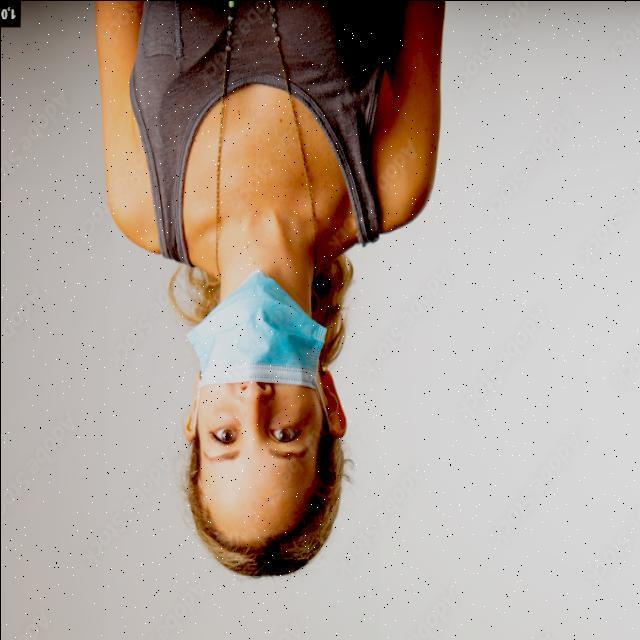face_half_mask: (185, 306, 346, 532)
